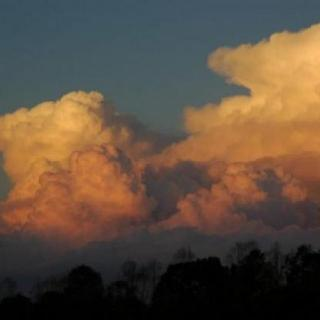Cumulonimbus: (0, 1, 320, 260)
